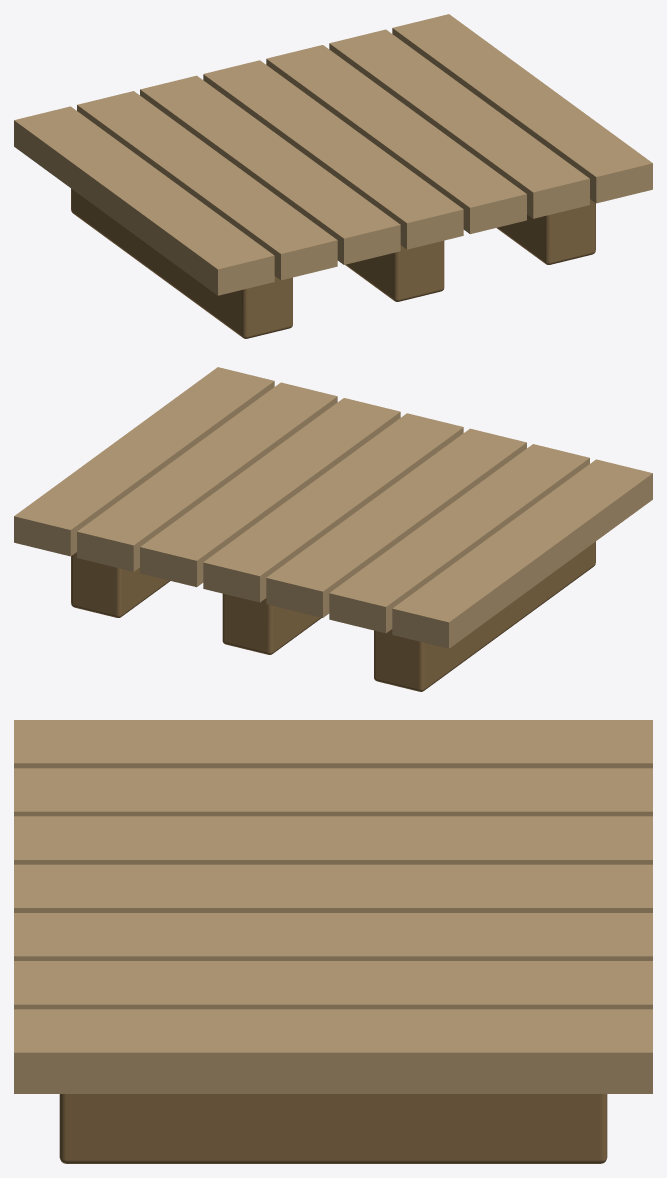
Rendered from paper.glb.
The picture shows the model from 3 angles, top to bottom: view 1: azimuth 30°, elevation 25°; view 2: azimuth 150°, elevation 25°; view 3: azimuth 270°, elevation 25°; orthographic projection. The views are drawn at different scales.
Parts seen in each view (by area): view 1: PalletDeck_0, PalletDeck_2, PalletDeck_3, PalletDeck_1, PalletDeck_4, PalletDeck_6, PalletDeck_5, PalletRunner_-0.12, PalletRunner_0, PalletRunner_0.12; view 2: PalletDeck_0, PalletDeck_2, PalletDeck_3, PalletDeck_1, PalletDeck_4, PalletDeck_6, PalletDeck_5, PalletRunner_-0.12, PalletRunner_0, PalletRunner_0.12; view 3: PalletDeck_6, PalletRunner_0.12, PalletDeck_0, PalletDeck_1, PalletDeck_2, PalletDeck_3, PalletDeck_5, PalletDeck_4.
Part boxes in pixels (box(x1,y1,x2,y2)): PalletDeck_0: box(14, 106, 274, 295); PalletDeck_2: box(140, 75, 400, 264); PalletDeck_3: box(203, 60, 463, 249); PalletDeck_1: box(77, 91, 337, 280); PalletDeck_4: box(266, 45, 526, 234); PalletDeck_6: box(392, 14, 652, 203); PalletDeck_5: box(329, 29, 589, 218); PalletRunner_-0.12: box(71, 188, 292, 338); PalletRunner_0: box(345, 240, 444, 301); PalletRunner_0.12: box(497, 199, 595, 264); PalletDeck_0: box(392, 459, 652, 648); PalletDeck_2: box(266, 428, 526, 617); PalletDeck_3: box(203, 413, 463, 602); PalletDeck_1: box(329, 444, 589, 633); PalletDeck_4: box(140, 398, 400, 587); PalletDeck_6: box(14, 367, 274, 556); PalletDeck_5: box(77, 382, 337, 571); PalletRunner_-0.12: box(374, 541, 595, 691); PalletRunner_0: box(222, 593, 321, 654); PalletRunner_0.12: box(71, 552, 169, 617); PalletDeck_6: box(14, 1009, 652, 1093); PalletRunner_0.12: box(59, 1094, 607, 1163); PalletDeck_0: box(14, 720, 652, 768); PalletDeck_1: box(14, 768, 652, 816); PalletDeck_2: box(14, 816, 652, 864); PalletDeck_3: box(14, 864, 652, 912); PalletDeck_5: box(14, 961, 652, 1009); PalletDeck_4: box(14, 913, 652, 960).
Size of the model in its own units: 0.345 by 0.07 by 0.28.
